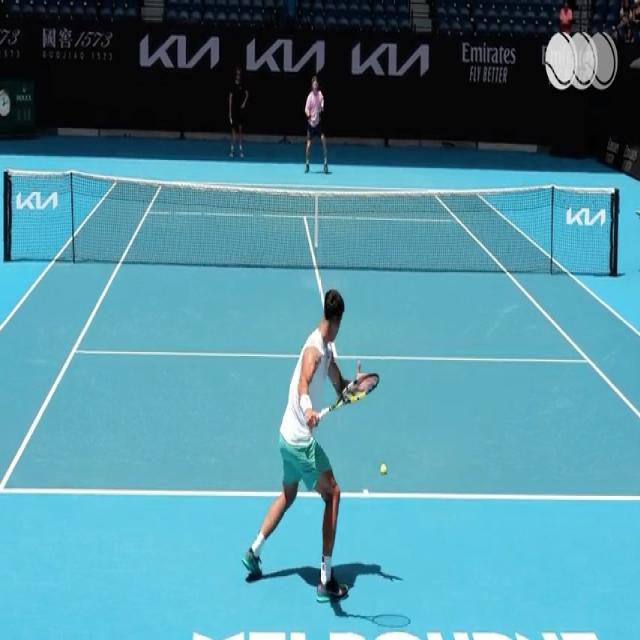forehand-ready: (249, 275, 389, 605)
